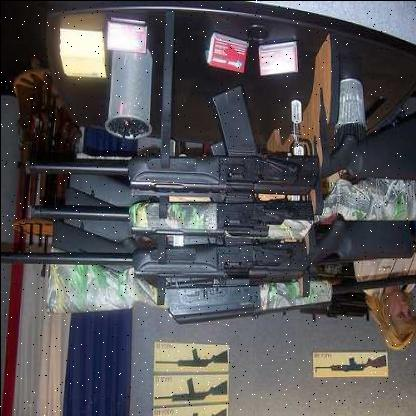rifle: (20, 70, 416, 204), (6, 213, 416, 284), (20, 183, 316, 245), (150, 367, 229, 407), (150, 334, 235, 367), (314, 347, 391, 375)
